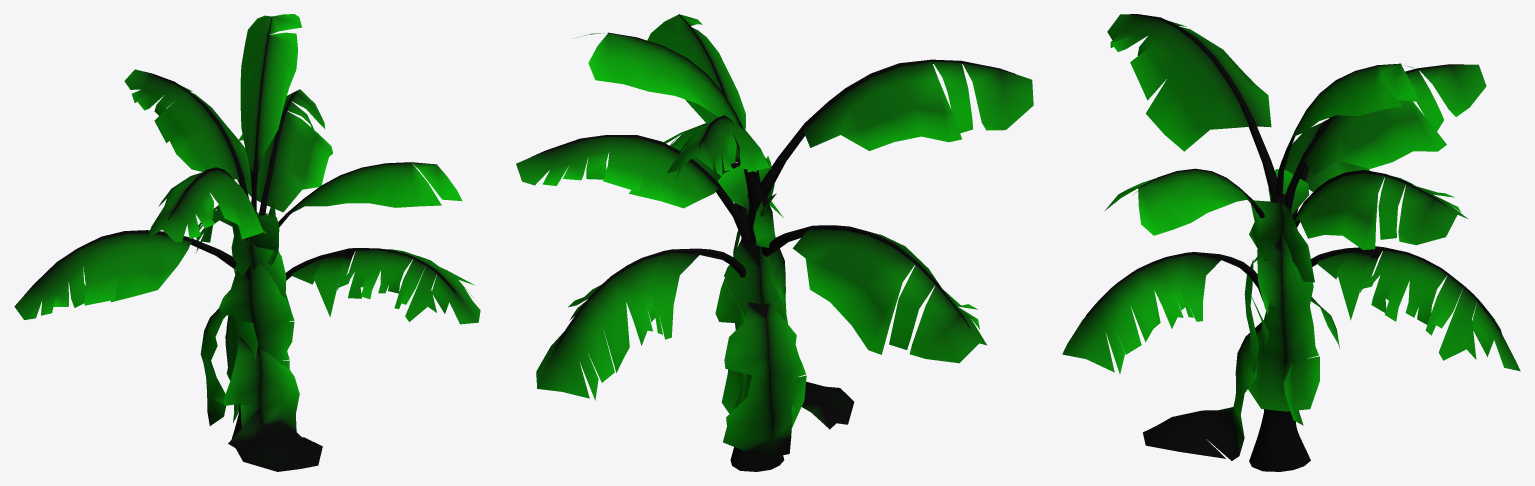
File: BANANA TREE.glb
3 renders of one model, left to right at view 1: azimuth 30°, elevation 25°; view 2: azimuth 150°, elevation 25°; view 3: azimuth 270°, elevation 25°, orthographic. The views are drawn at different scales.
Visible parts, largest first — view 1: DeadBananaLeaf_xw00_xt00_xlp00.005; view 2: DeadBananaLeaf_xw00_xt00_xlp00.005; view 3: DeadBananaLeaf_xw00_xt00_xlp00.005.
Part boxes in pixels (box(x1,y1,x2,y2)): DeadBananaLeaf_xw00_xt00_xlp00.005: box(14, 14, 480, 471); DeadBananaLeaf_xw00_xt00_xlp00.005: box(516, 14, 1033, 471); DeadBananaLeaf_xw00_xt00_xlp00.005: box(1062, 14, 1520, 471).
Bounding box in the file's own units: 5.32 × 5.13 × 4.86.
